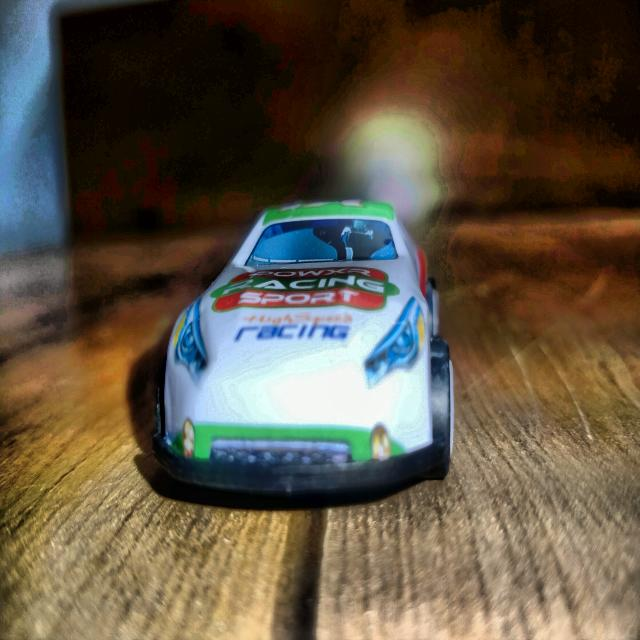Car: (154, 200, 452, 496)
